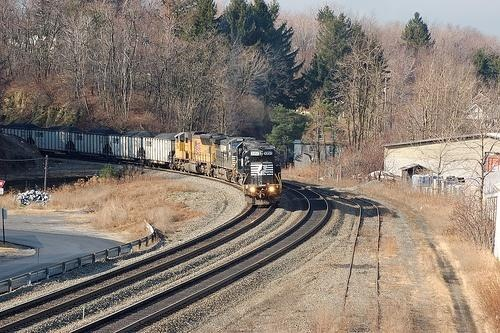train: (2, 124, 284, 208)
